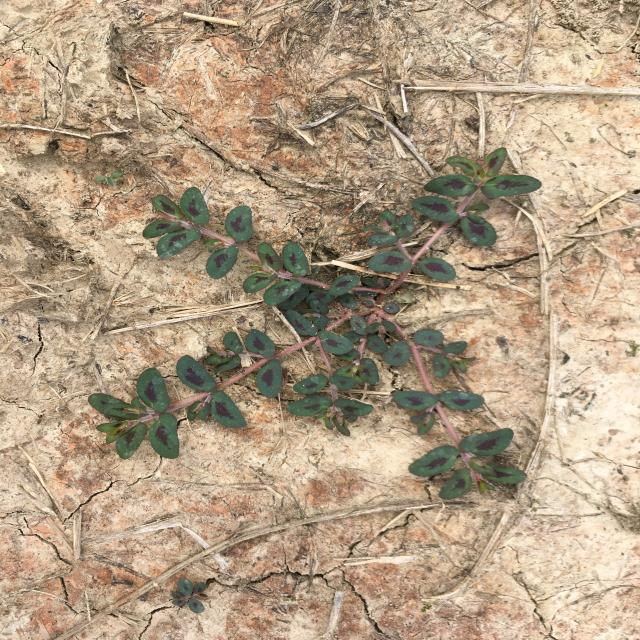SpottedSpurge: (87, 147, 543, 500)
